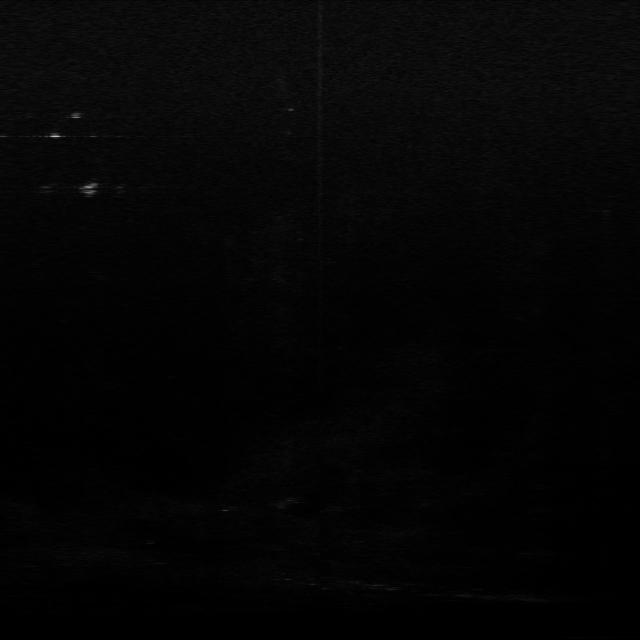rov: (76, 180, 100, 197)
